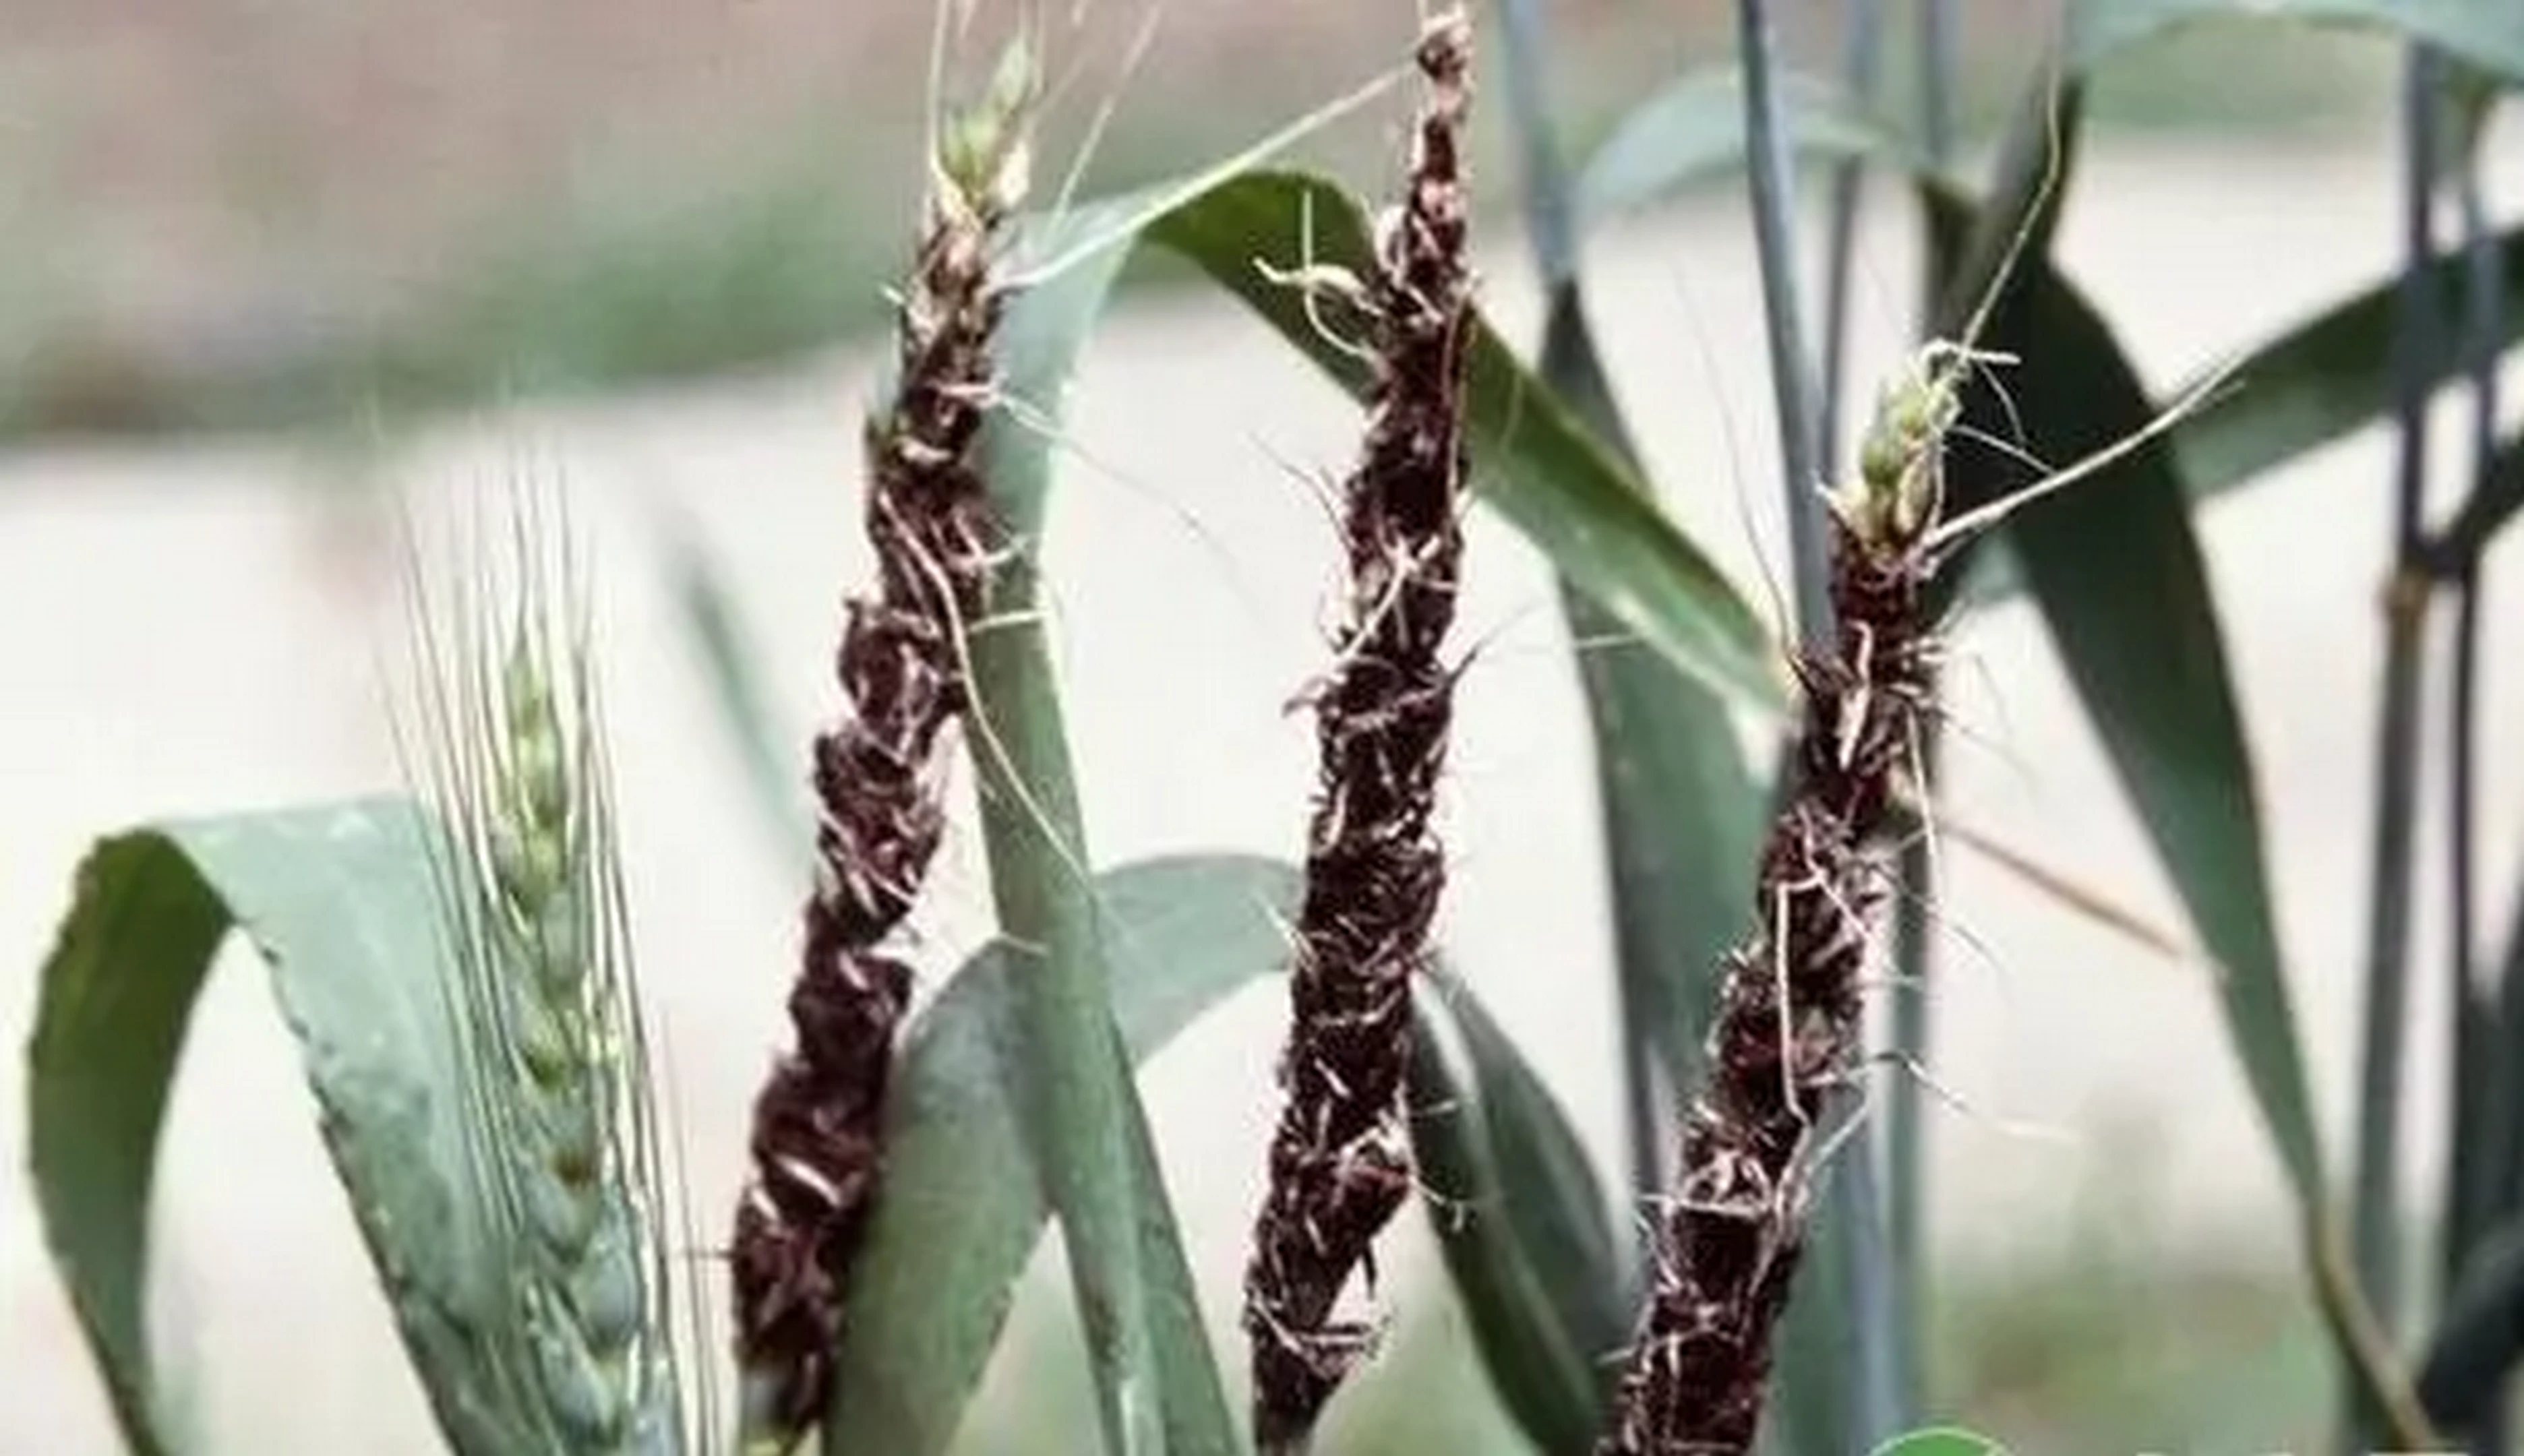Wheat Loose Smut: (1193, 57, 1567, 1333), (1609, 400, 2002, 1435), (711, 222, 1028, 1326)
